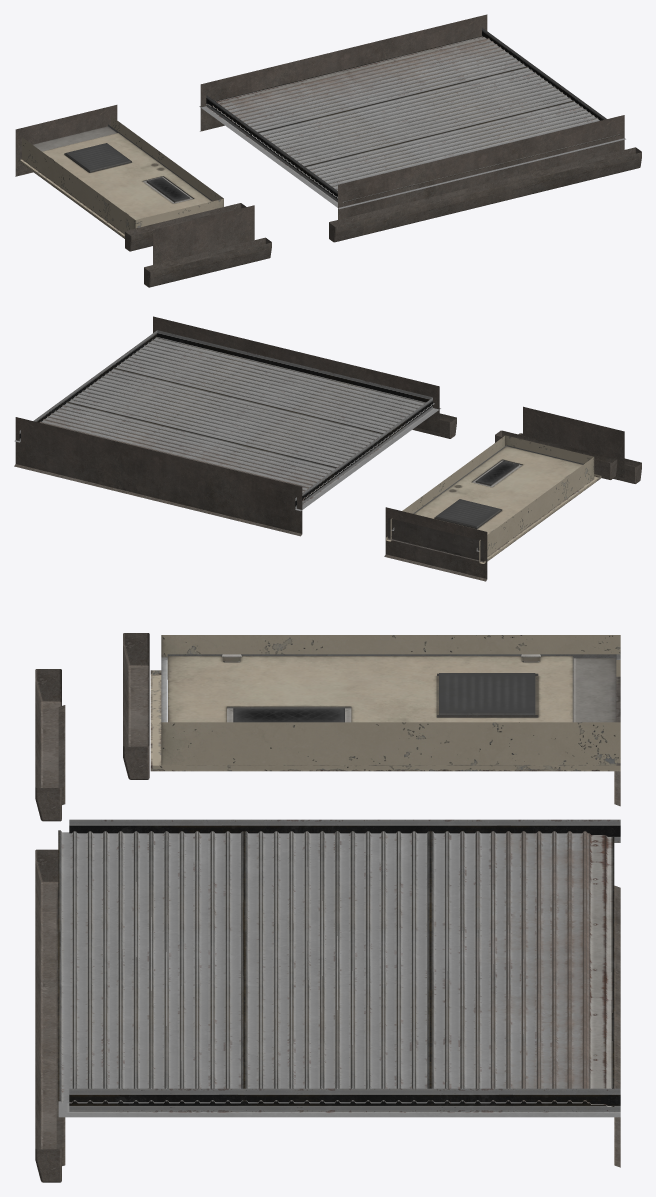
The model's file is door_garage_door_01.gltf.
3 views of the same model, one above another, from view 1: azimuth 30°, elevation 25°; view 2: azimuth 150°, elevation 25°; view 3: azimuth 270°, elevation 25° (orthographic). The views are drawn at different scales.
Parts seen in each view (by area): view 1: door_garage_door_01; view 2: door_garage_door_01; view 3: door_garage_door_01.
Boxes of the visible parts, box(x1,y1,x2,y2) form: door_garage_door_01: box(15, 14, 641, 287); door_garage_door_01: box(14, 316, 641, 581); door_garage_door_01: box(35, 633, 620, 1182).
Size of the model in its own units: 5.32 by 0.53 by 2.74.
3 materials, 3 textured.
